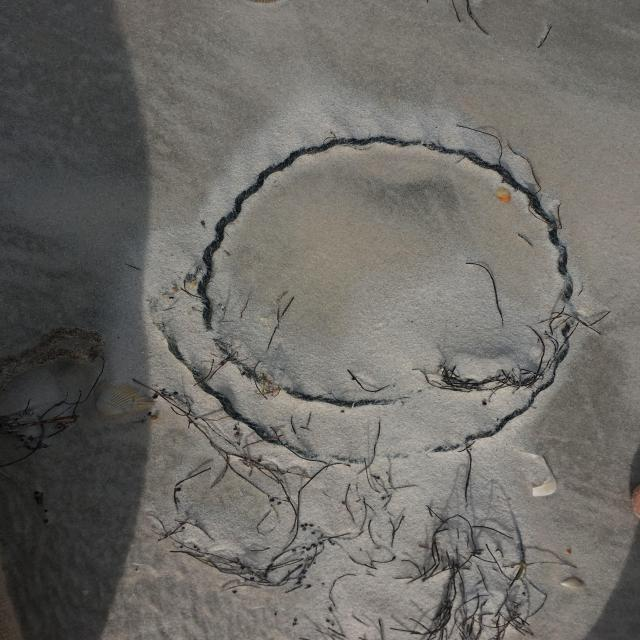litter: (152, 130, 583, 470)
